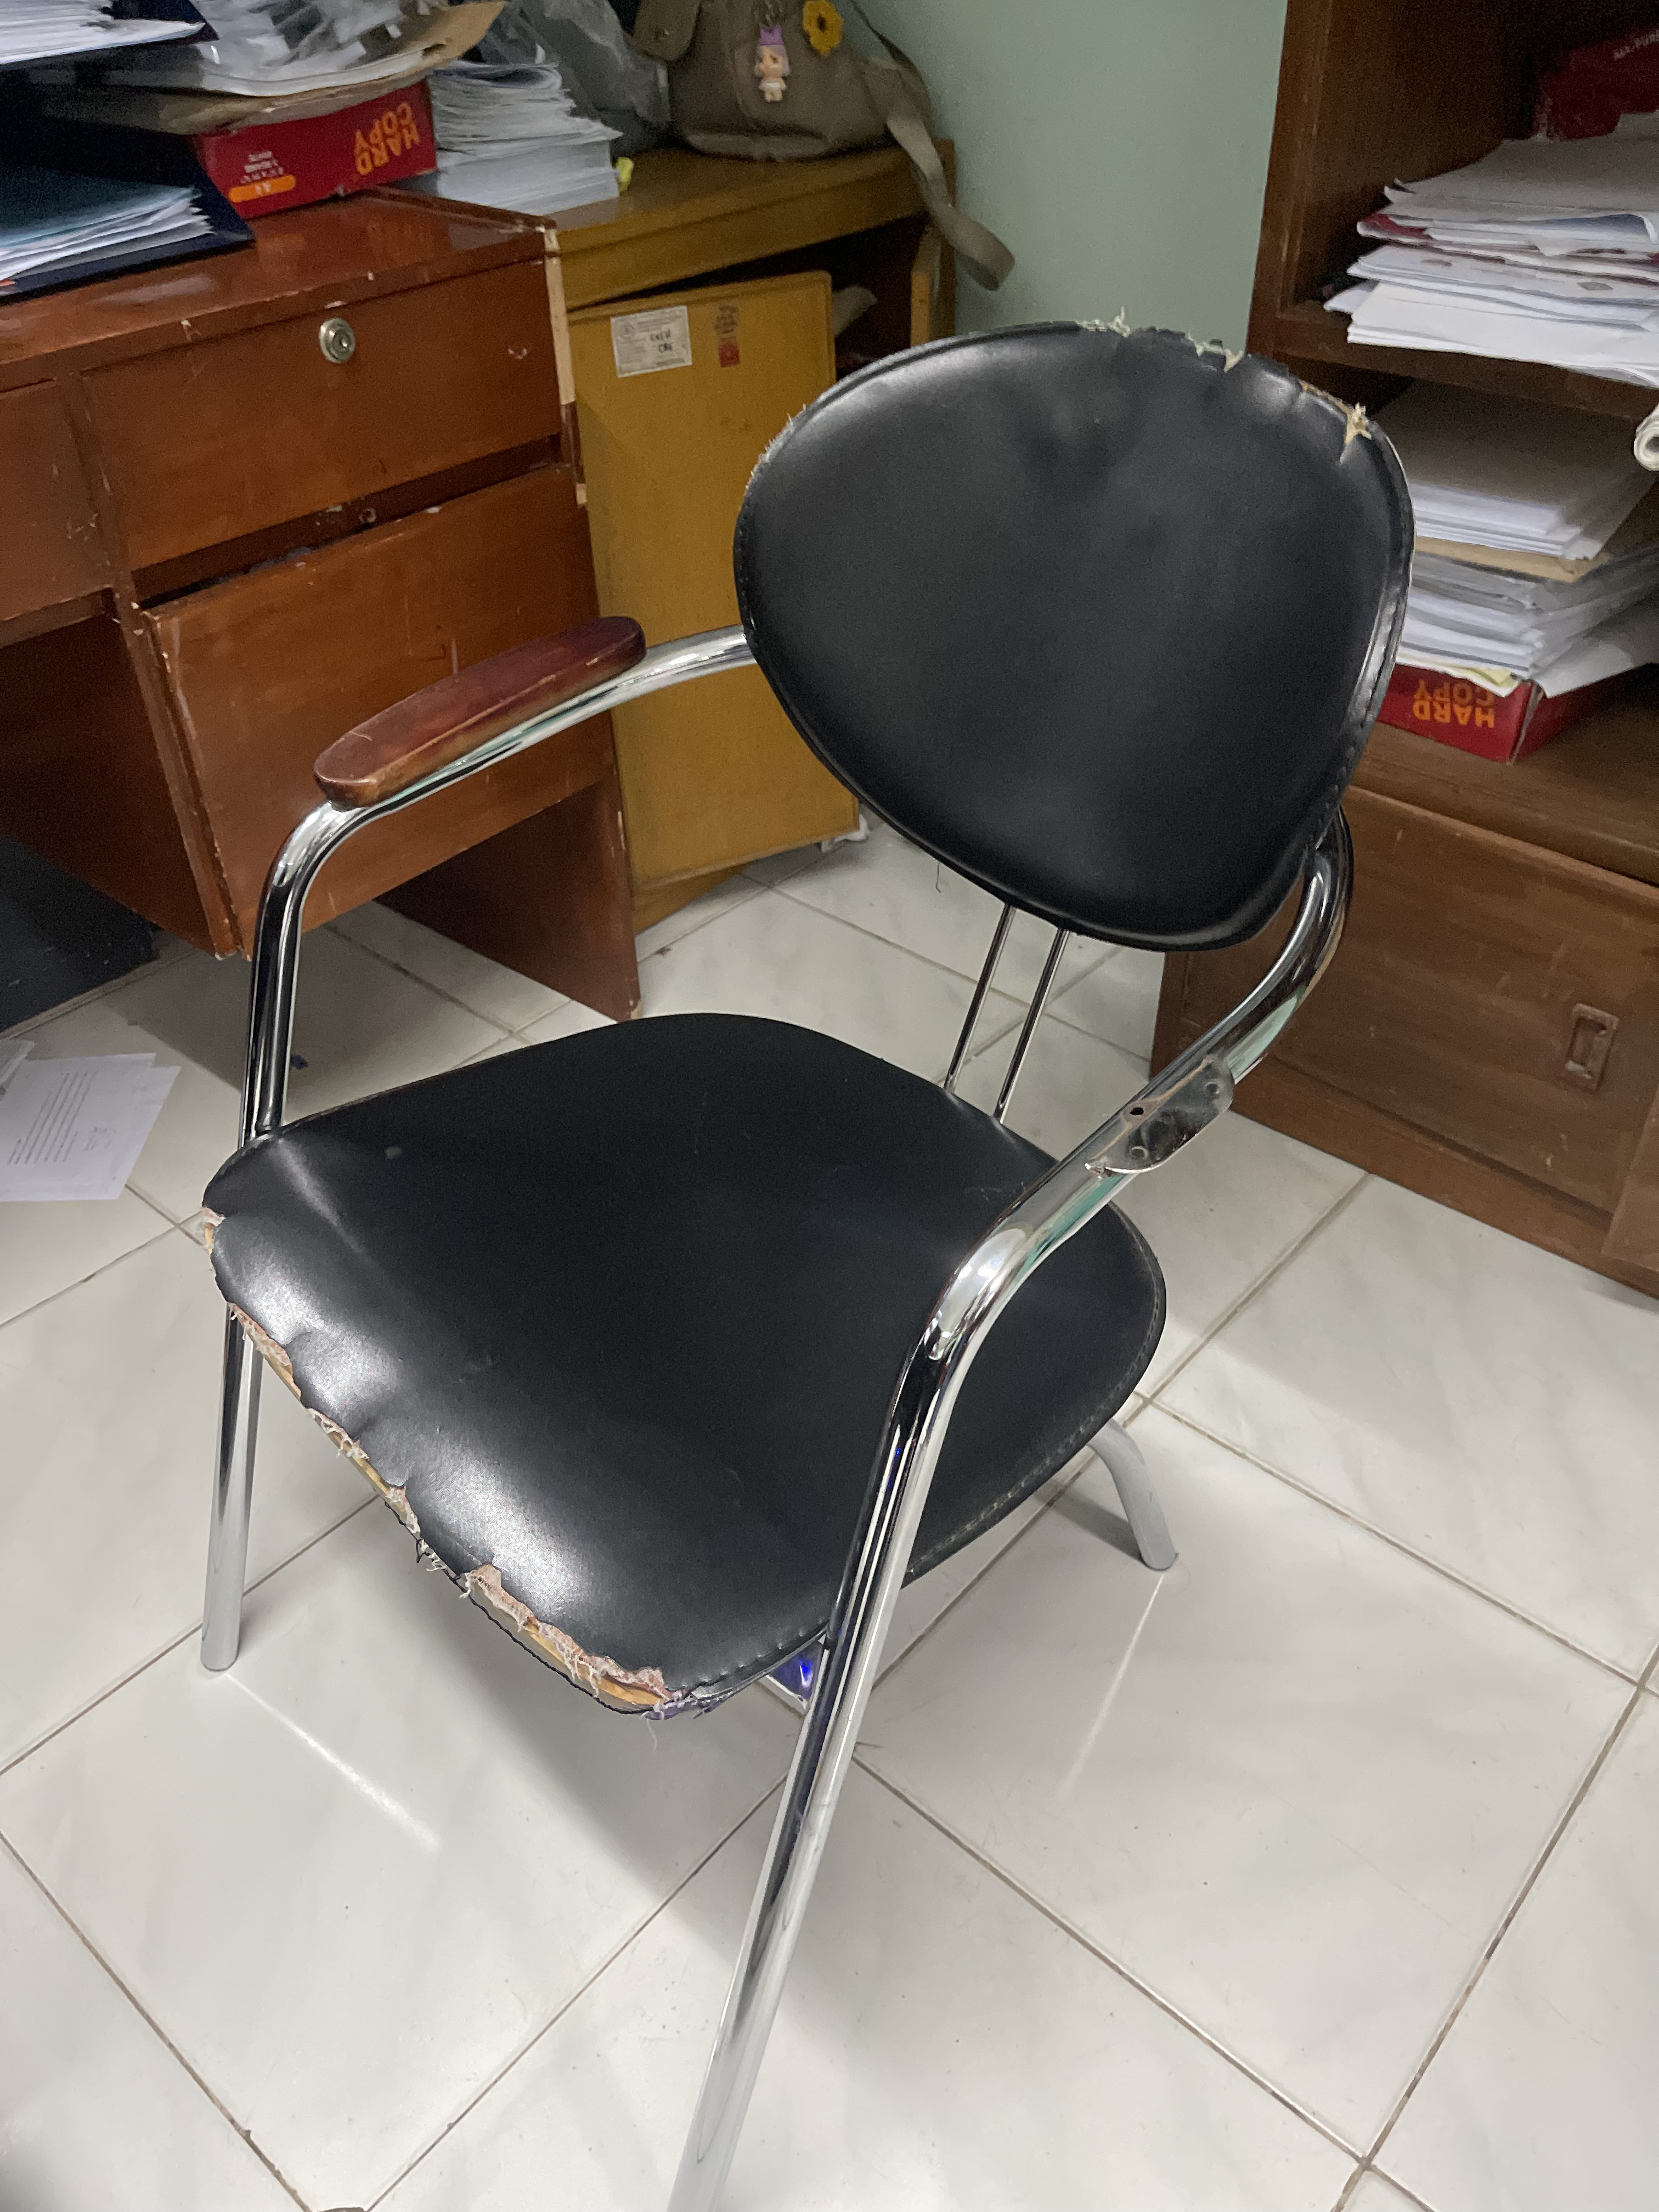chair1: (185, 314, 1431, 2212)
